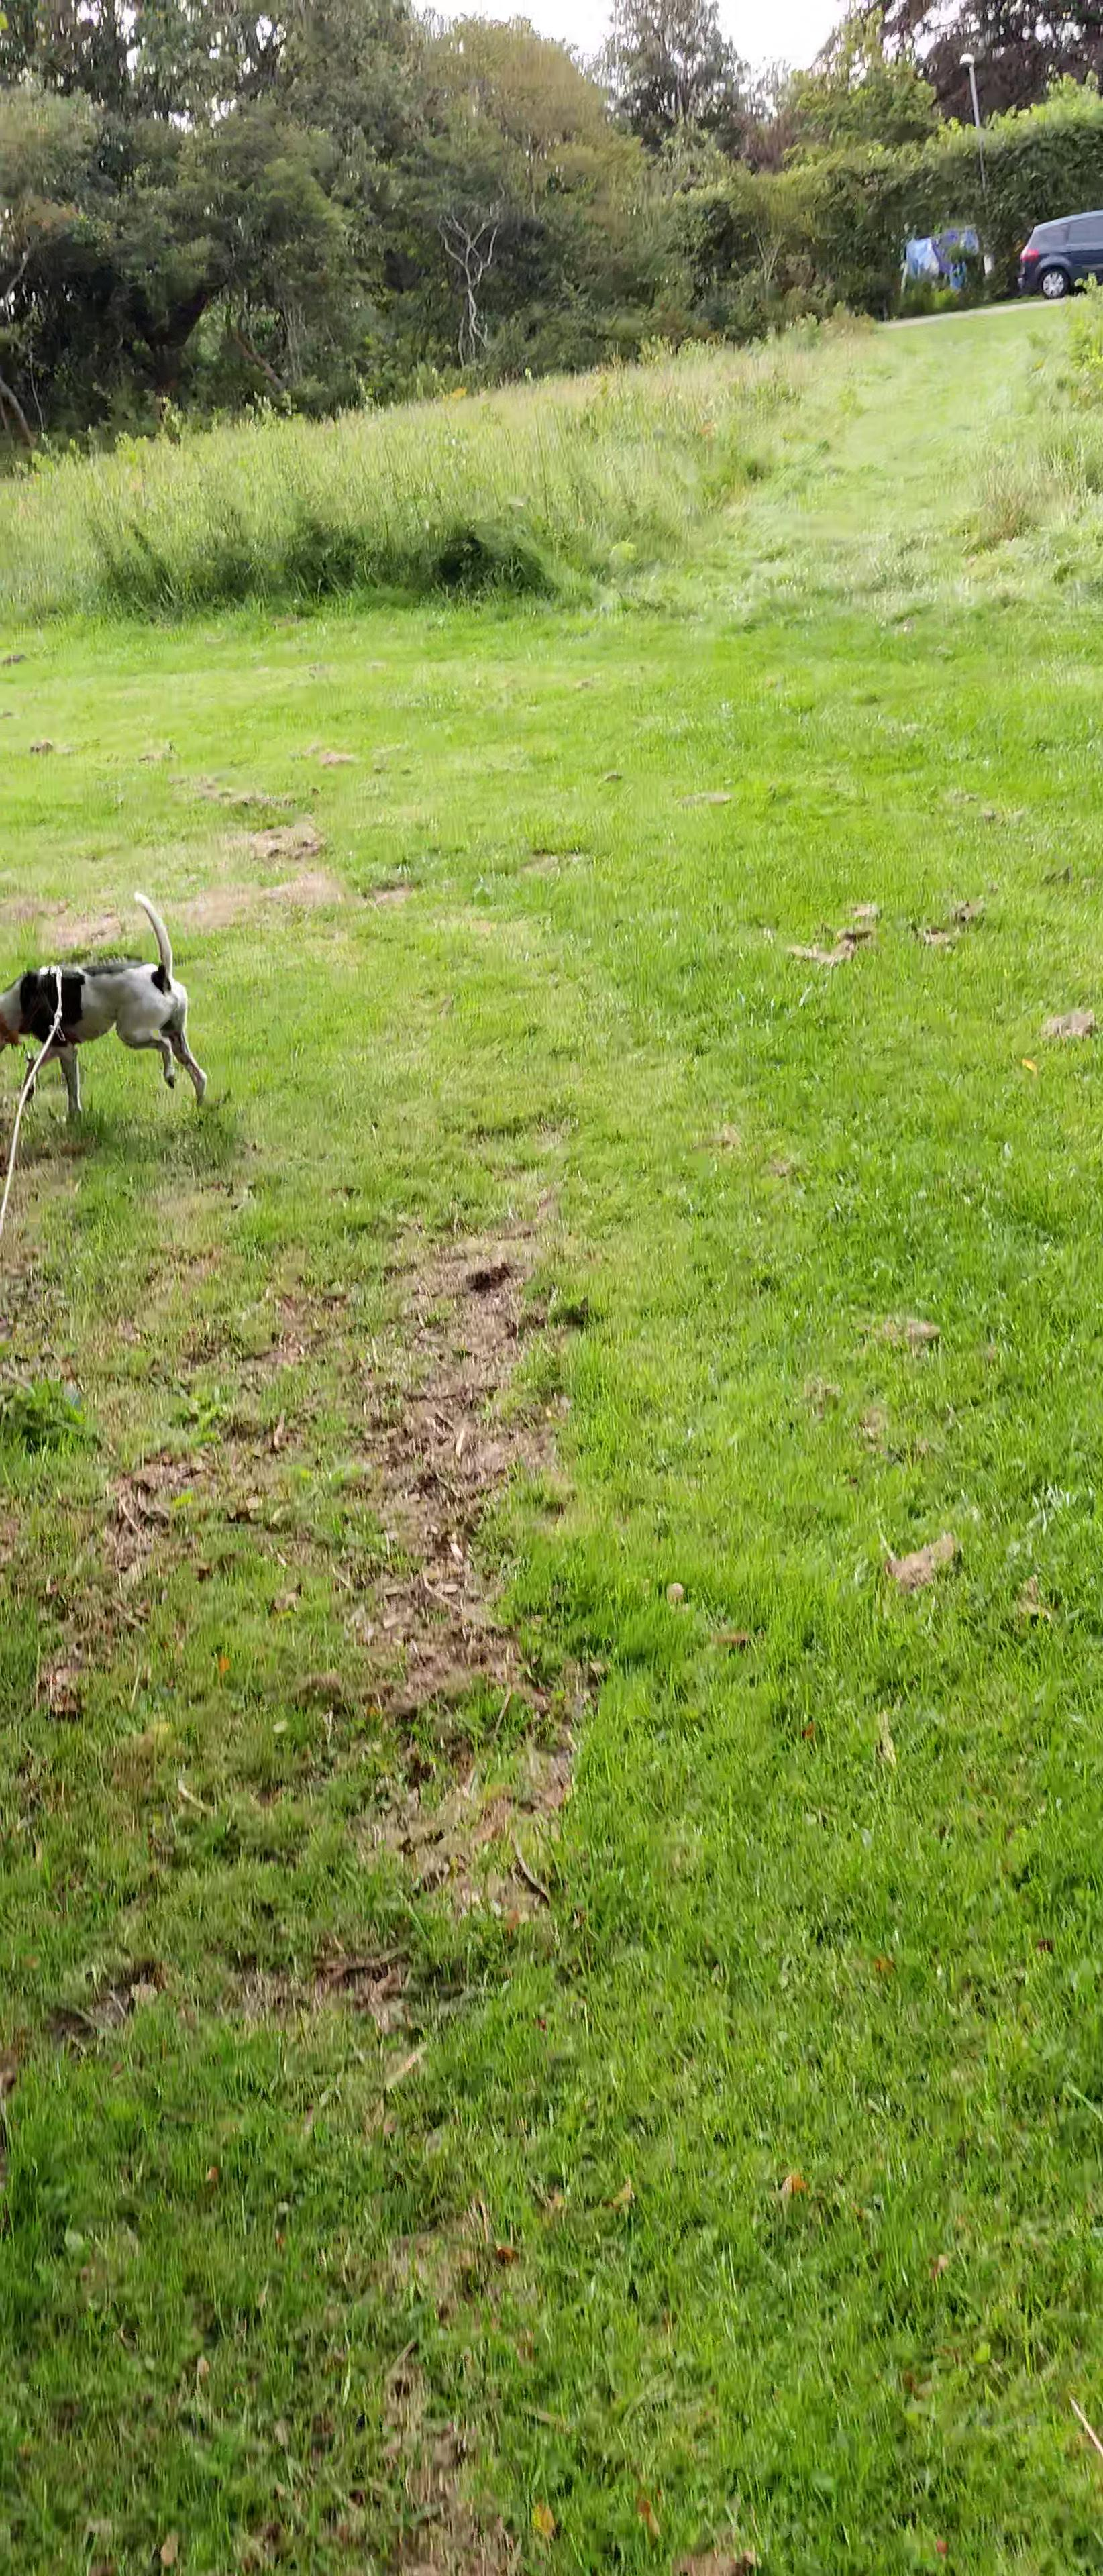Dog: (0, 882, 215, 1124)
